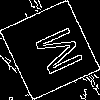M: (24, 25, 85, 81)
